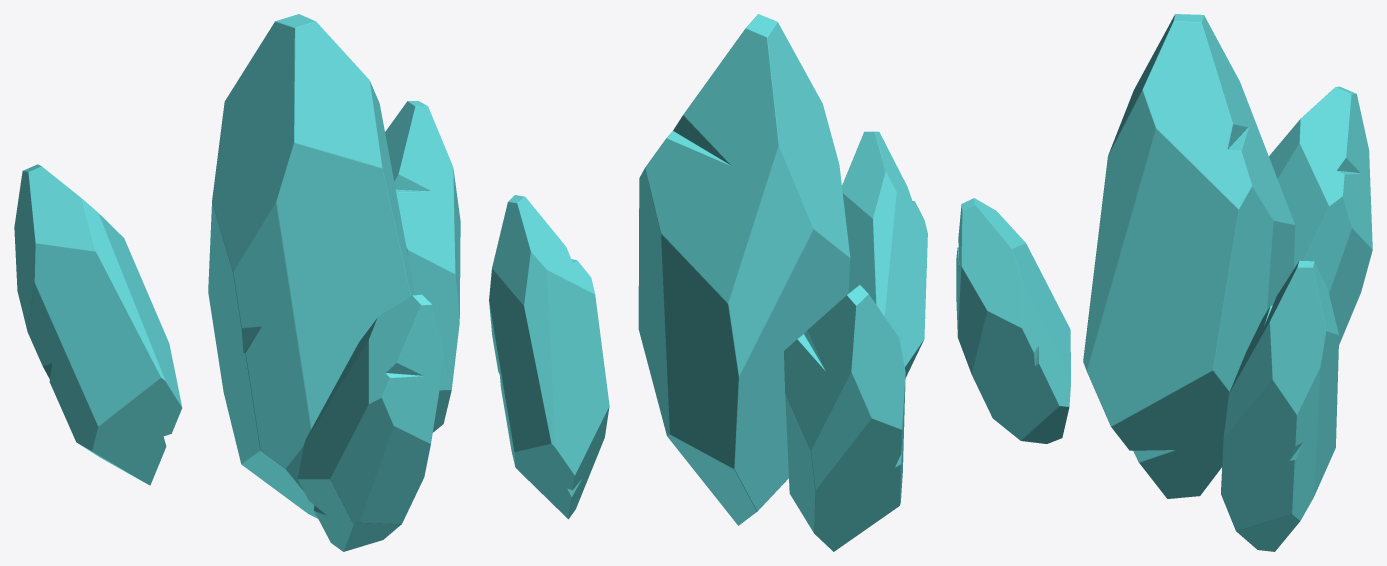
The model's file is uploads_files_3547013_Crystals+FBX.fbx.
The picture shows the model from 3 angles, left to right: view 1: azimuth 30°, elevation 25°; view 2: azimuth 150°, elevation 25°; view 3: azimuth 270°, elevation 25°; orthographic projection. The views are drawn at different scales.
Visible parts, largest first — view 1: Crystal, Small Crystal 2, Small Crystal 1, Small Crystal 3; view 2: Crystal, Small Crystal 3, Small Crystal 2, Small Crystal 1; view 3: Crystal, Small Crystal 3, Small Crystal 1, Small Crystal 2.
Boxes of the visible parts, box(x1,y1,x2,y2) form: Crystal: box(208, 14, 415, 518); Small Crystal 2: box(14, 164, 182, 485); Small Crystal 1: box(297, 294, 445, 551); Small Crystal 3: box(385, 101, 460, 432); Crystal: box(638, 14, 850, 525); Small Crystal 3: box(489, 195, 609, 519); Small Crystal 2: box(784, 285, 905, 551); Small Crystal 1: box(842, 131, 927, 377); Crystal: box(1083, 14, 1295, 498); Small Crystal 3: box(1221, 260, 1339, 551); Small Crystal 1: box(956, 198, 1070, 443); Small Crystal 2: box(1269, 86, 1372, 344).
Size of the model in its own units: 241 by 278 by 222.
